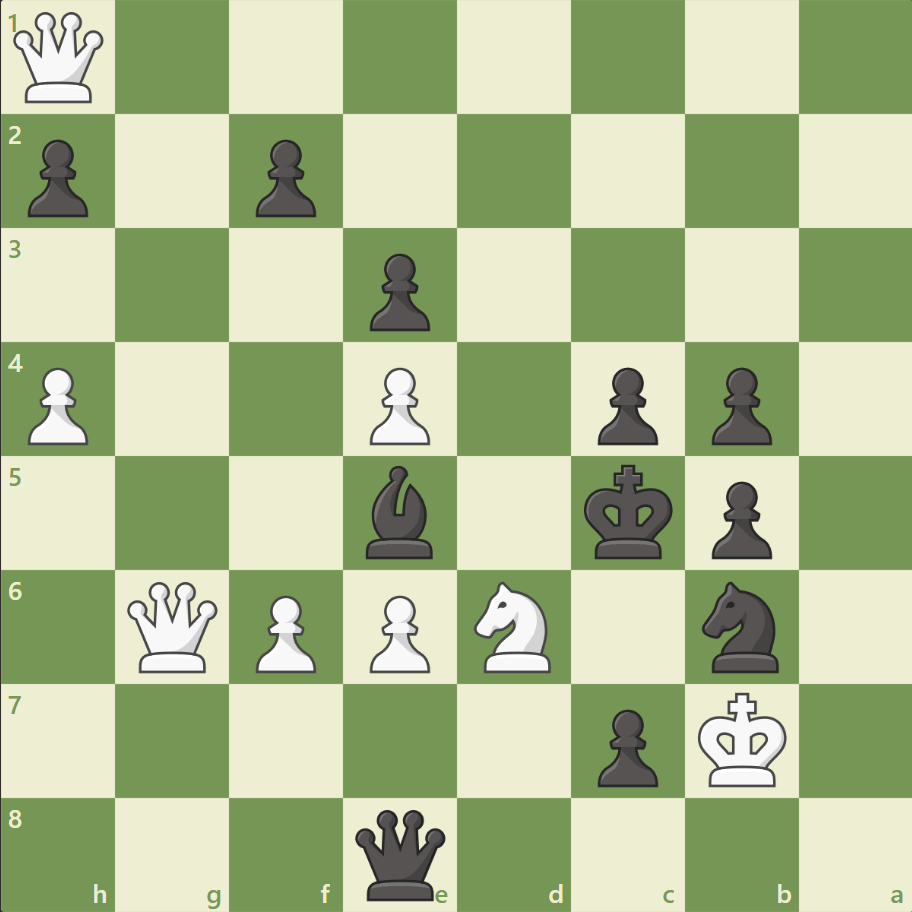K: (692, 685, 792, 793)
N: (465, 575, 562, 677)
P: (247, 586, 322, 677), (20, 359, 95, 450), (361, 586, 435, 677), (361, 359, 435, 450)
Q: (124, 576, 223, 676), (10, 9, 109, 108)
b: (358, 460, 442, 563)
k: (579, 458, 679, 566)
n: (692, 575, 789, 677)
p: (701, 473, 776, 564), (701, 359, 776, 450), (247, 132, 322, 223), (20, 132, 95, 223), (588, 700, 662, 791), (588, 359, 662, 450), (361, 246, 435, 337)
q: (351, 804, 450, 903)
